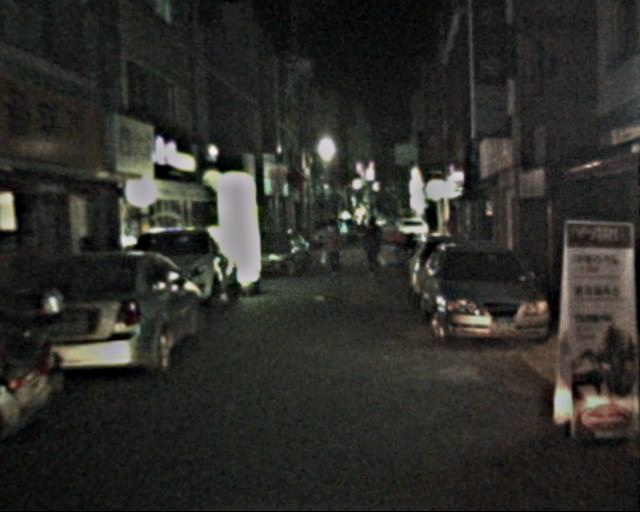person: (360, 216, 387, 282), (320, 218, 345, 280)
